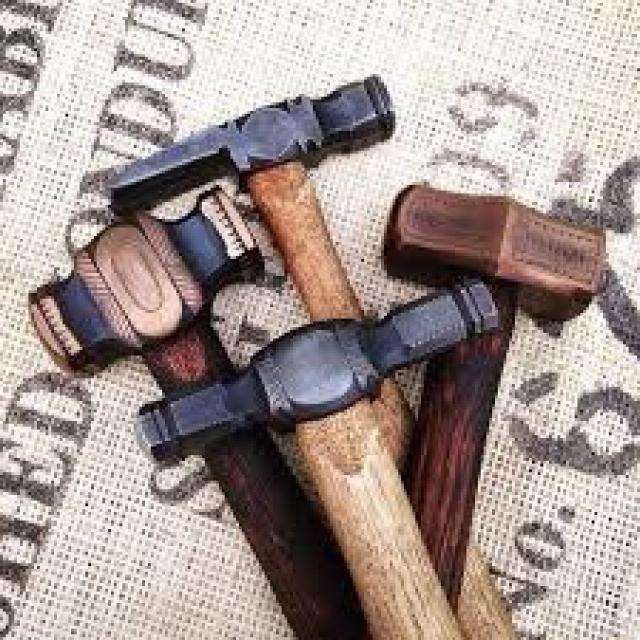hammer: (28, 182, 364, 640), (103, 50, 400, 562), (125, 276, 532, 640), (385, 165, 616, 640)
